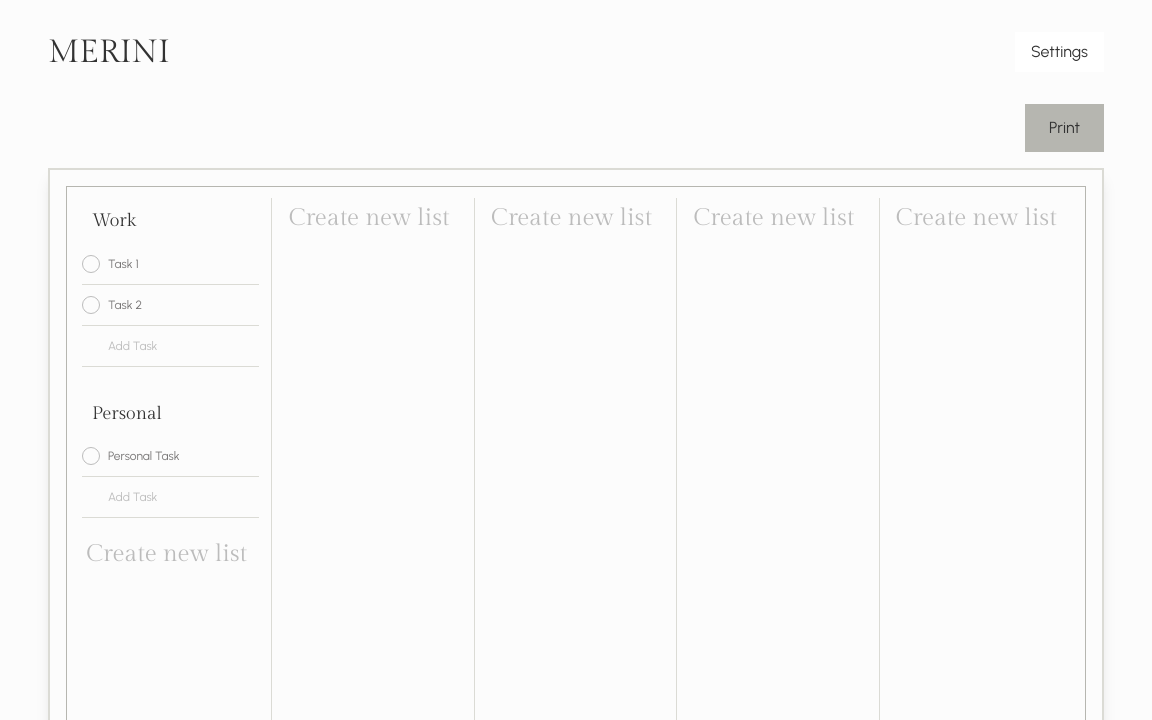
Test: App - List Archiving › cancels archiving when Cancel is clicked in confirmation
Click the button "Work": [114, 220] box [92,210,136,231]
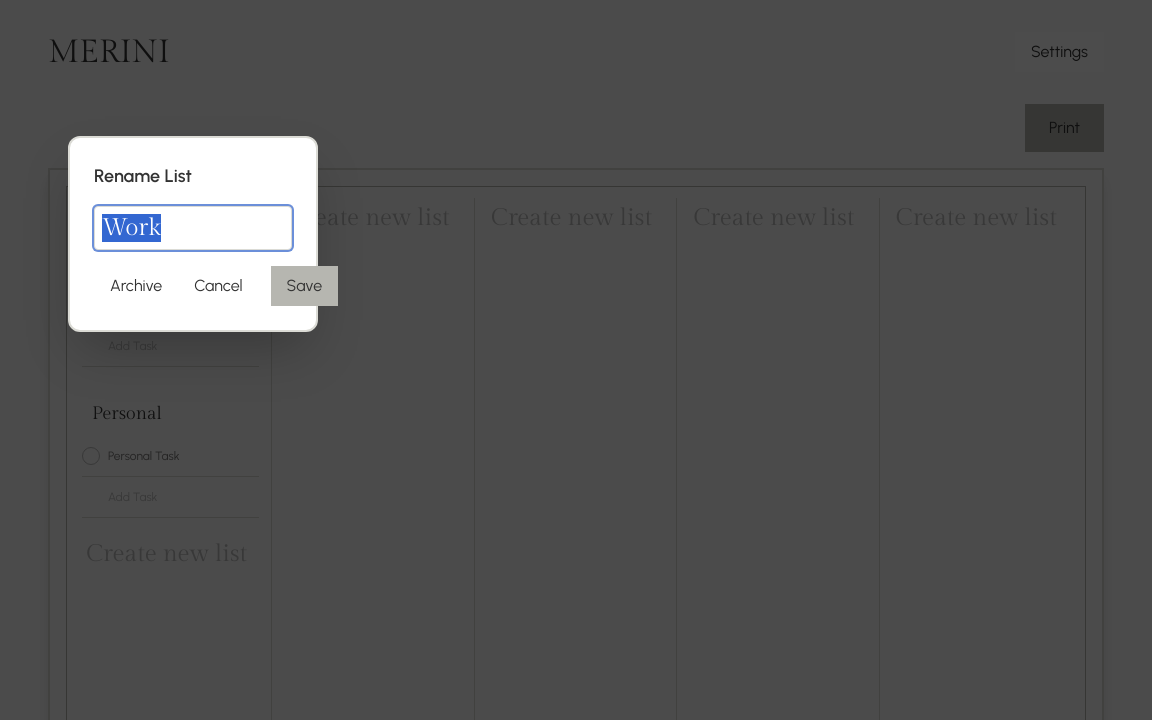
expect the dialog is shown: met
Click the button with aria-label "archive this list": [136, 286] box [94,266,178,306]
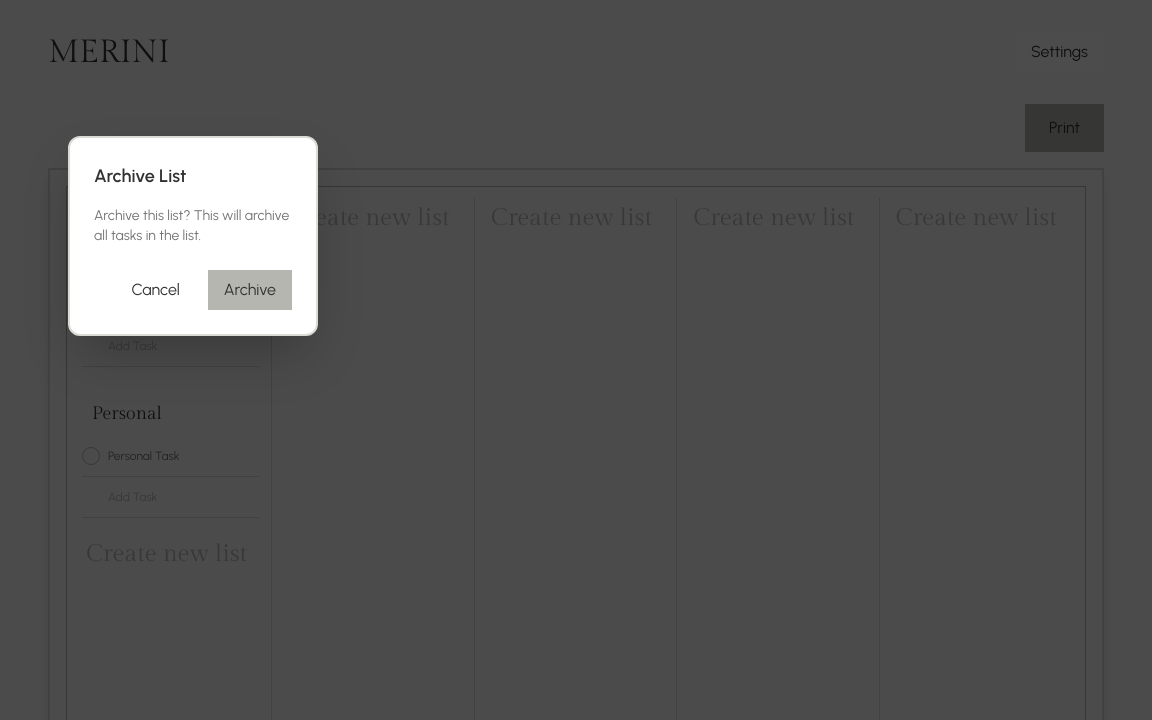
expect the heading "Archive List" is shown: met, box [94,165,186,187]
Click the button with aria-label "cancel archiving": [156, 290] box [116,270,196,310]
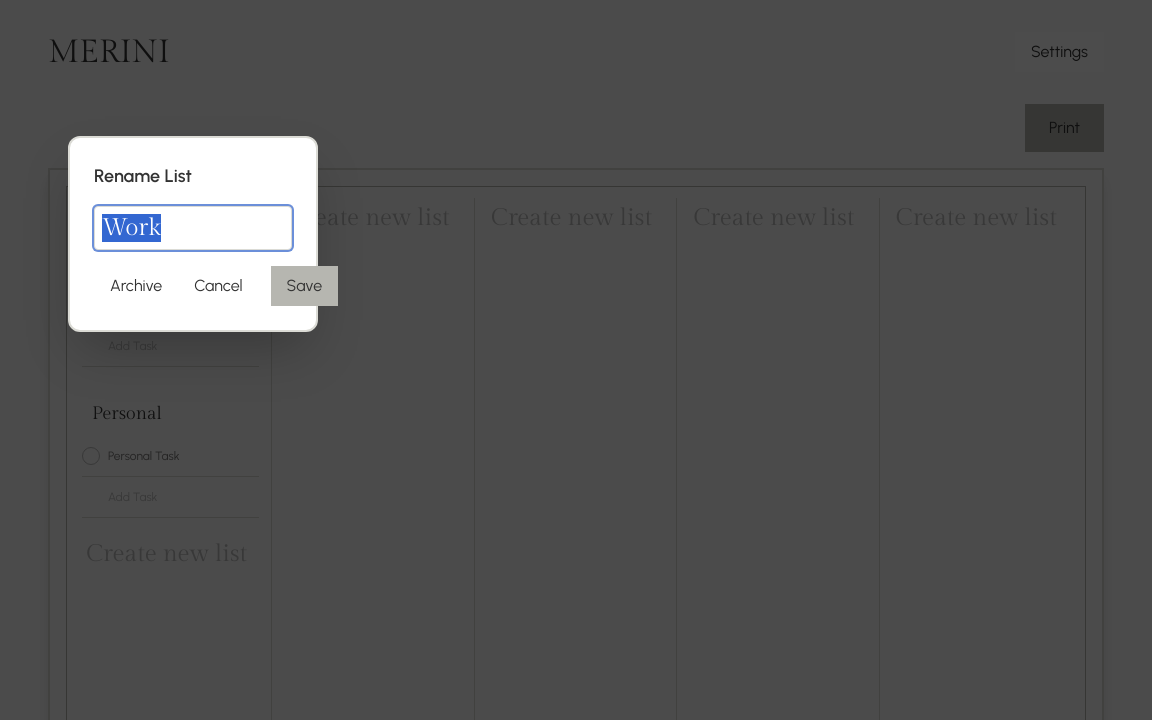
expect the button "Work" is shown: met, box [92,210,136,231]
expect the button with aria-label "archive this list" is shown: met, box [94,266,178,306]
expect the heading "Archive List" is gone: met
